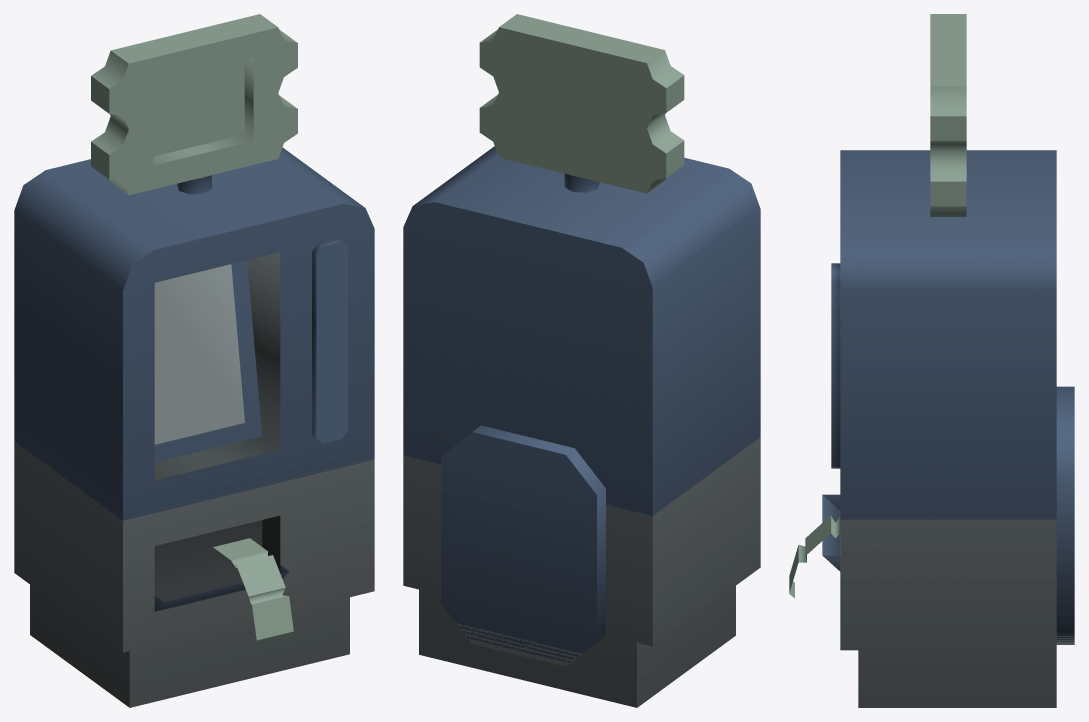
File: mini-arcade__ticket-machine.glb
3 views of the same model, side by side, from view 1: azimuth 30°, elevation 25°; view 2: azimuth 150°, elevation 25°; view 3: azimuth 270°, elevation 25° (orthographic).
Parts seen in each view (by area): view 1: ticket-machine, rotate-y; view 2: ticket-machine, rotate-y; view 3: ticket-machine, rotate-y.
Part boxes in pixels (x1=…): ticket-machine: x1=14, y1=147, x2=374, y2=707; rotate-y: x1=91, y1=14, x2=297, y2=195; ticket-machine: x1=403, y1=146, x2=760, y2=707; rotate-y: x1=479, y1=14, x2=684, y2=193; ticket-machine: x1=789, y1=150, x2=1074, y2=707; rotate-y: x1=930, y1=14, x2=966, y2=216.
Size of the model in its own units: 1.34 by 3.1 by 1.33.
1 material, 1 textured.
